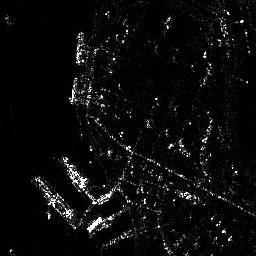ship: (35, 175, 75, 219), (60, 154, 87, 186), (74, 30, 86, 65), (69, 76, 79, 105)
